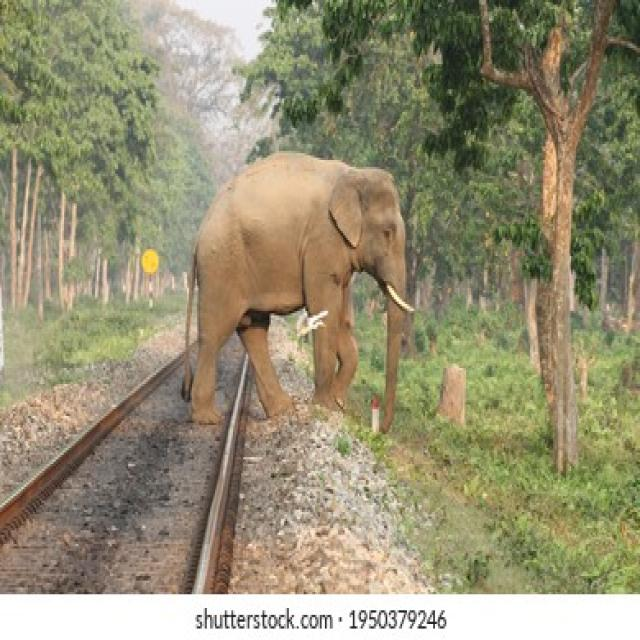Elephant: (178, 143, 410, 447)
